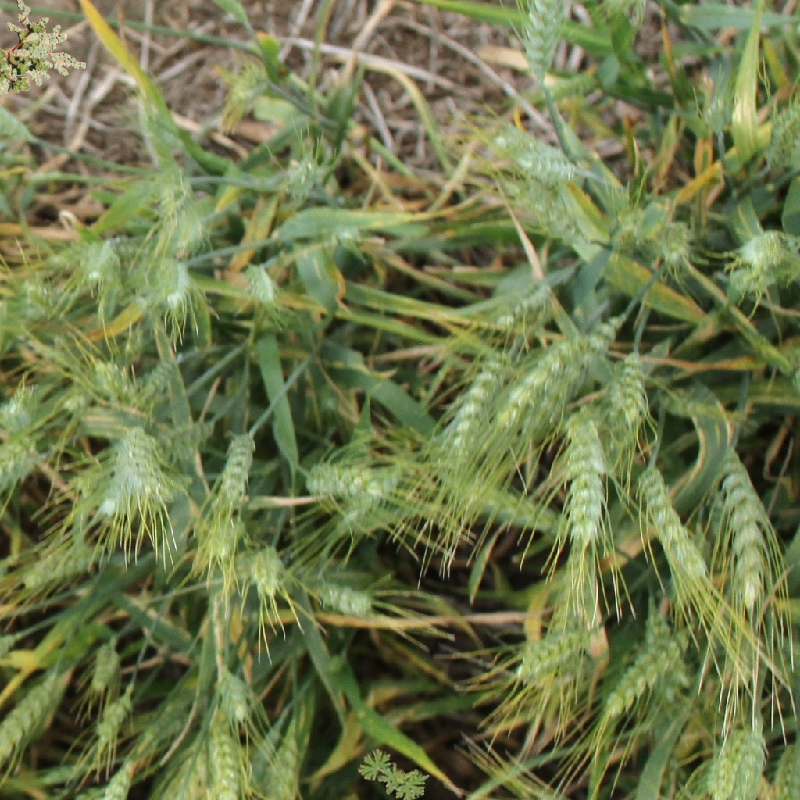spikelet: (500, 319, 616, 425), (92, 358, 168, 511), (433, 346, 512, 471), (714, 445, 772, 607), (633, 462, 708, 583), (605, 613, 675, 718), (498, 176, 595, 251), (561, 405, 611, 549), (1, 672, 70, 764), (490, 124, 579, 186), (516, 616, 598, 681), (285, 559, 373, 616), (464, 481, 560, 533), (110, 424, 165, 511), (704, 721, 762, 800), (20, 540, 101, 592), (520, 1, 575, 76), (734, 229, 799, 291), (483, 272, 551, 330), (262, 718, 305, 800), (206, 718, 245, 800), (218, 429, 256, 513), (608, 351, 648, 430), (304, 457, 377, 500), (656, 381, 725, 424), (767, 89, 800, 170), (1, 435, 39, 500), (152, 255, 193, 313), (16, 277, 67, 321), (77, 235, 120, 286), (87, 757, 138, 799), (247, 543, 285, 599), (94, 693, 134, 746), (225, 58, 270, 105), (1, 383, 37, 436), (281, 156, 322, 202), (89, 638, 121, 696), (653, 219, 692, 265), (242, 260, 280, 307), (612, 205, 647, 256), (776, 735, 800, 800)
weed: (1, 1, 86, 98), (352, 752, 428, 800)
